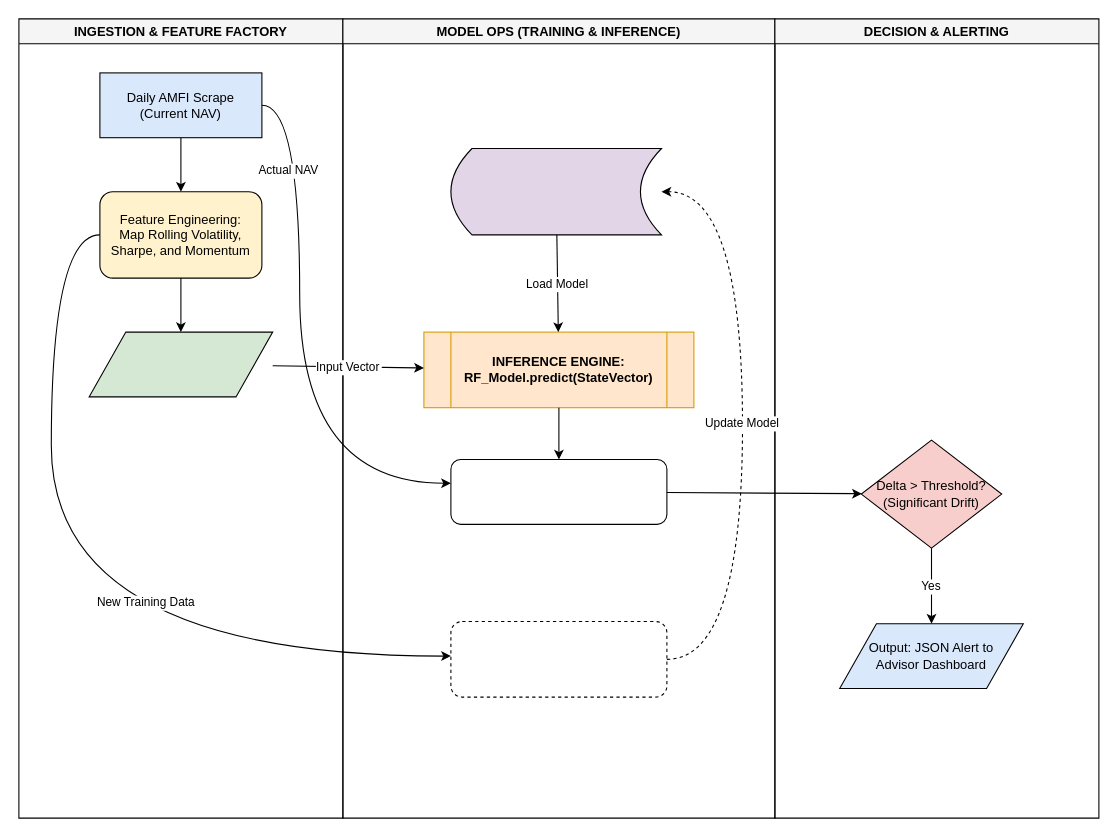
Some shapes in this 1118 by 837 pixel diagram are drawn without their labels. The shapes that lost their labels are listed below. From the top down, each one's centre as x and y in pixels, then its label:
At [556,191]: "Model Registry (Loaded .joblib RF Model)".
At [180,364]: "Construct State Vector [X1, X2... Xn]".
At [558,491]: "Calculate Residual: Delta = Actual - Predicted".
At [558,658]: "Retraining Loop: TimeSeriesSplit Refit (Weekly/Monthly)".
